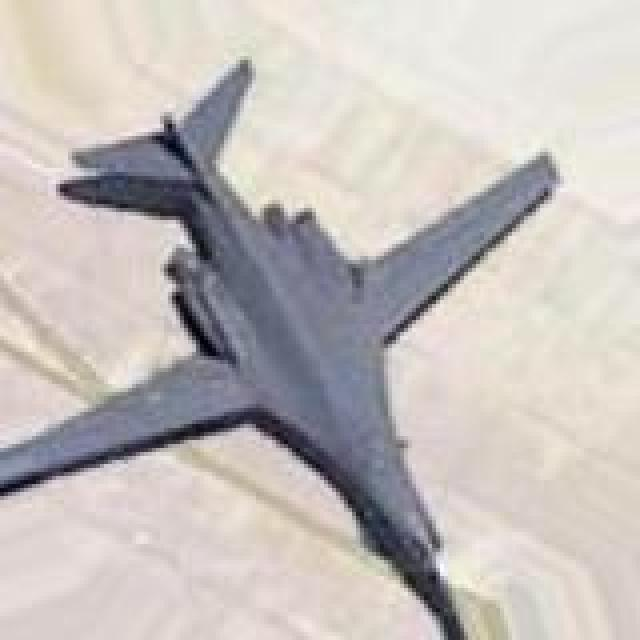B-1_TopDown: (0, 52, 564, 636)
